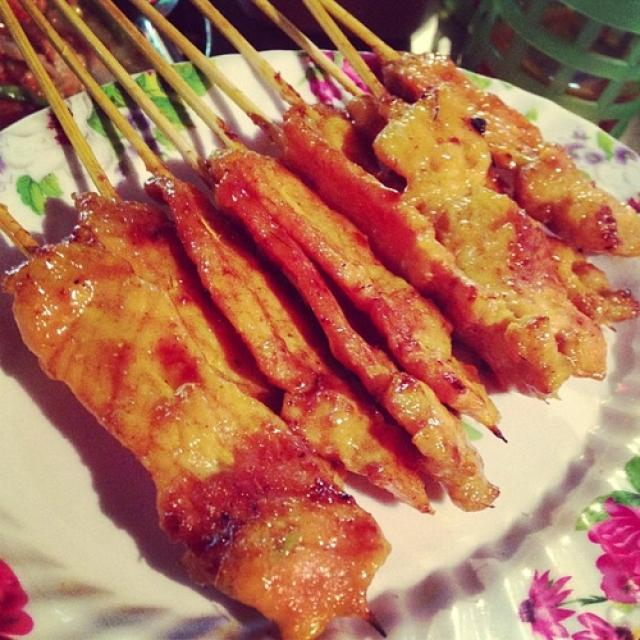牛肉菜式: (40, 35, 603, 599)
